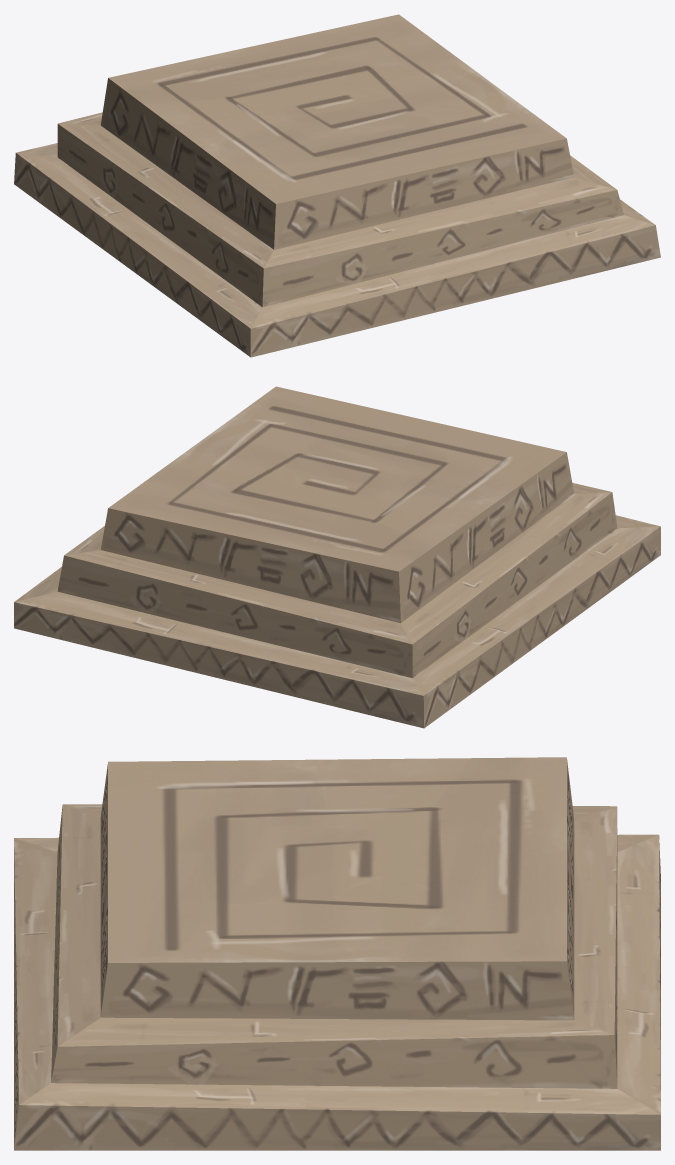
File: z-blocHat.FBX
3 renders of one model, top to bottom at view 1: azimuth 30°, elevation 25°; view 2: azimuth 150°, elevation 25°; view 3: azimuth 270°, elevation 25°, orthographic. The views are drawn at different scales.
Visible parts, largest first — view 1: blocHat; view 2: blocHat; view 3: blocHat.
Boxes of the visible parts, bbox=[...] form: blocHat: bbox=[14, 14, 660, 357]; blocHat: bbox=[14, 386, 660, 728]; blocHat: bbox=[14, 757, 660, 1150].
Size of the model in its own units: 100 by 100 by 27.27.
